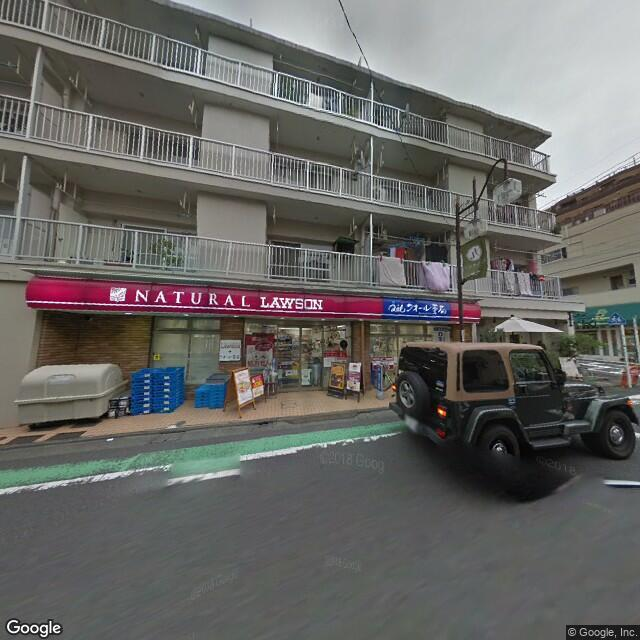lawson: (27, 272, 480, 321)
